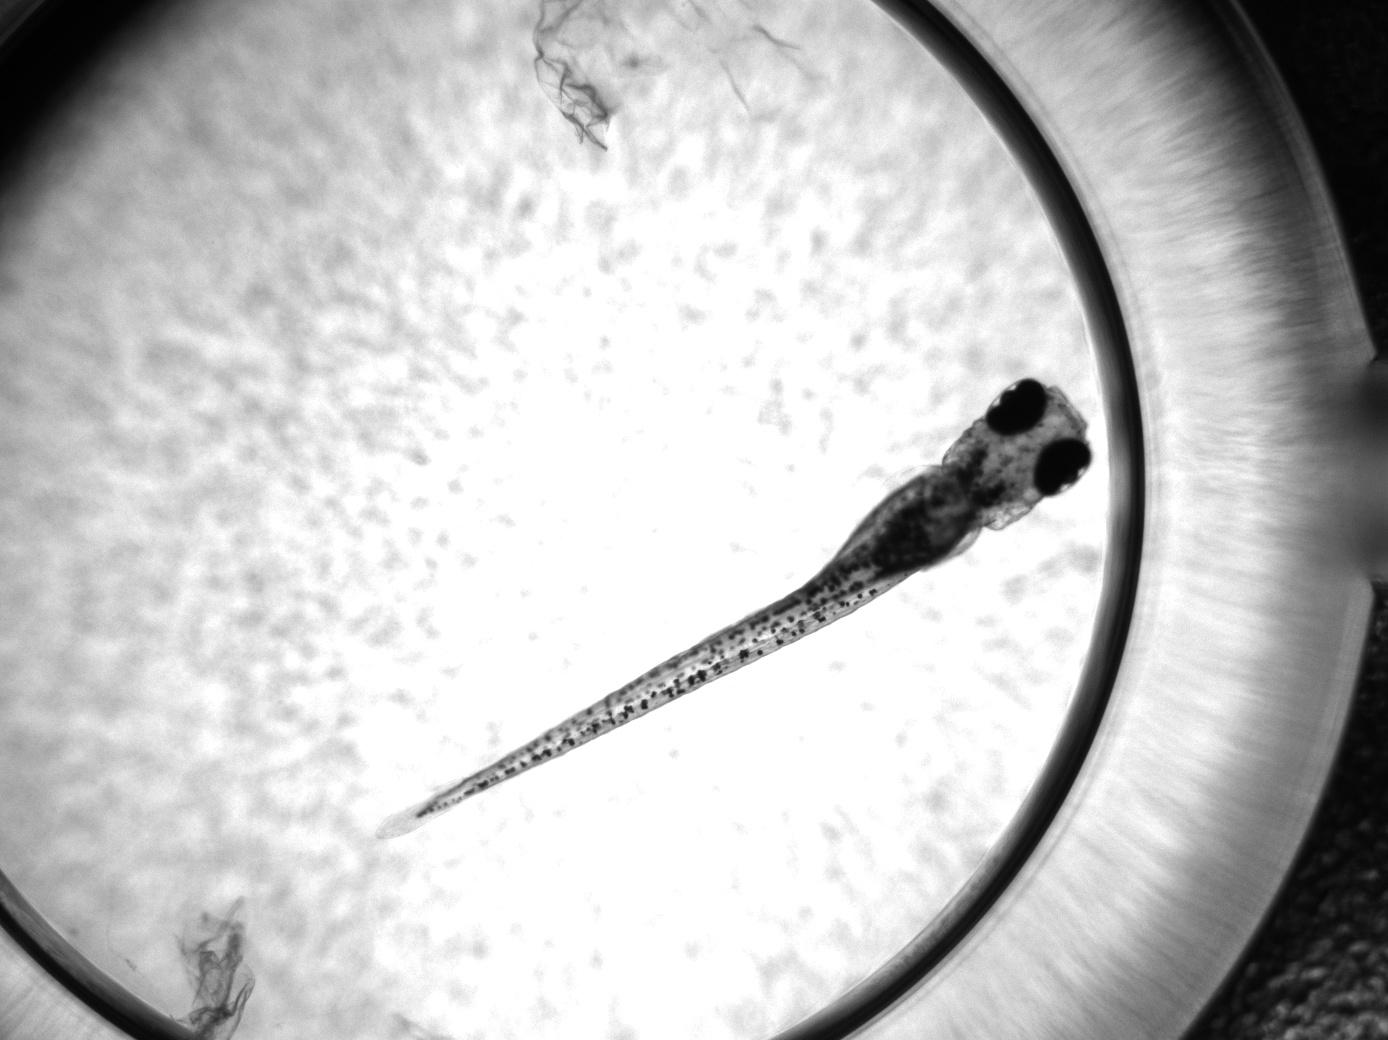debris: (531, 1, 820, 150), (169, 894, 257, 1040)
embryo: (415, 377, 1095, 819)
eye: (984, 378, 1046, 436), (1033, 437, 1092, 497)
yolksac: (828, 466, 984, 592)
